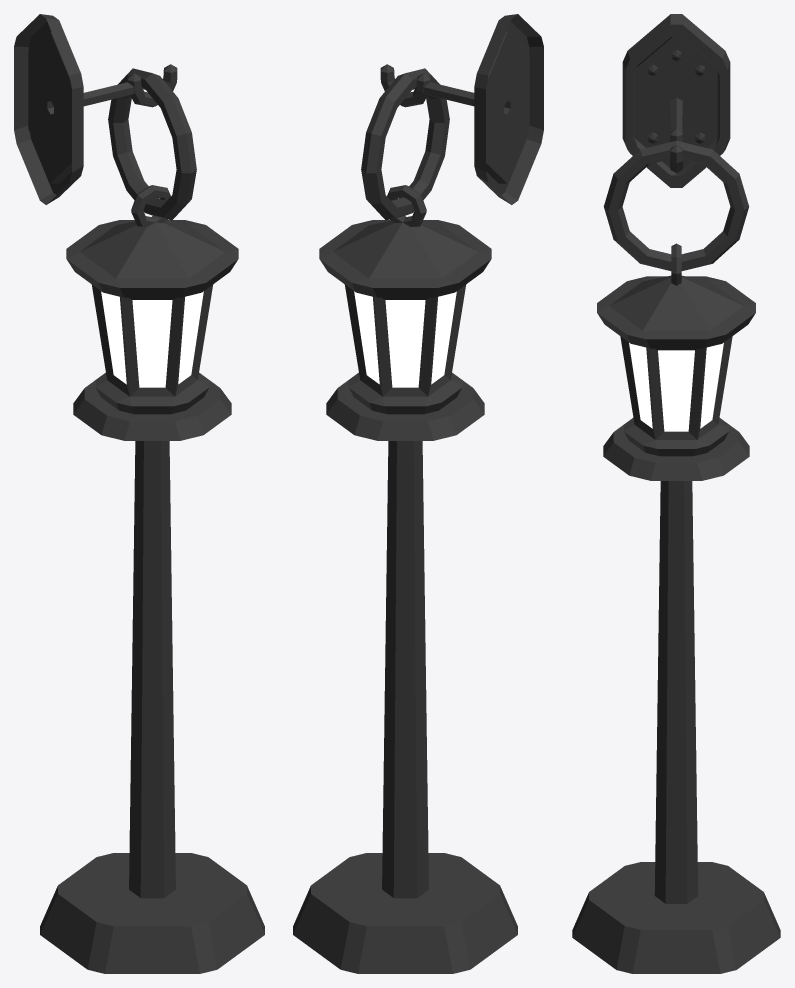
Rendered from Lantern.fbx.
3 views of the same model, side by side, from view 1: azimuth 30°, elevation 25°; view 2: azimuth 150°, elevation 25°; view 3: azimuth 270°, elevation 25° (orthographic). The views are drawn at different scales.
Parts seen in each view (by area): view 1: obj_lantern_stand, obj_lantern_sconce, obj_lantern_base, obj_lantern_glass; view 2: obj_lantern_stand, obj_lantern_sconce, obj_lantern_base, obj_lantern_glass; view 3: obj_lantern_stand, obj_lantern_sconce, obj_lantern_base, obj_lantern_glass.
Boxes of the visible parts, bbox=[...] form: obj_lantern_stand: bbox=[40, 380, 264, 973]; obj_lantern_sconce: bbox=[14, 14, 196, 227]; obj_lantern_base: bbox=[66, 220, 238, 414]; obj_lantern_glass: bbox=[101, 291, 203, 387]; obj_lantern_stand: bbox=[293, 380, 517, 973]; obj_lantern_sconce: bbox=[361, 14, 543, 227]; obj_lantern_base: bbox=[319, 220, 491, 414]; obj_lantern_glass: bbox=[354, 291, 456, 387]; obj_lantern_stand: bbox=[572, 424, 780, 973]; obj_lantern_sconce: bbox=[603, 14, 749, 285]; obj_lantern_base: bbox=[597, 275, 755, 456]; obj_lantern_glass: bbox=[629, 342, 723, 431].
Bounding box in the file's own units: 428 × 1941 × 421.
